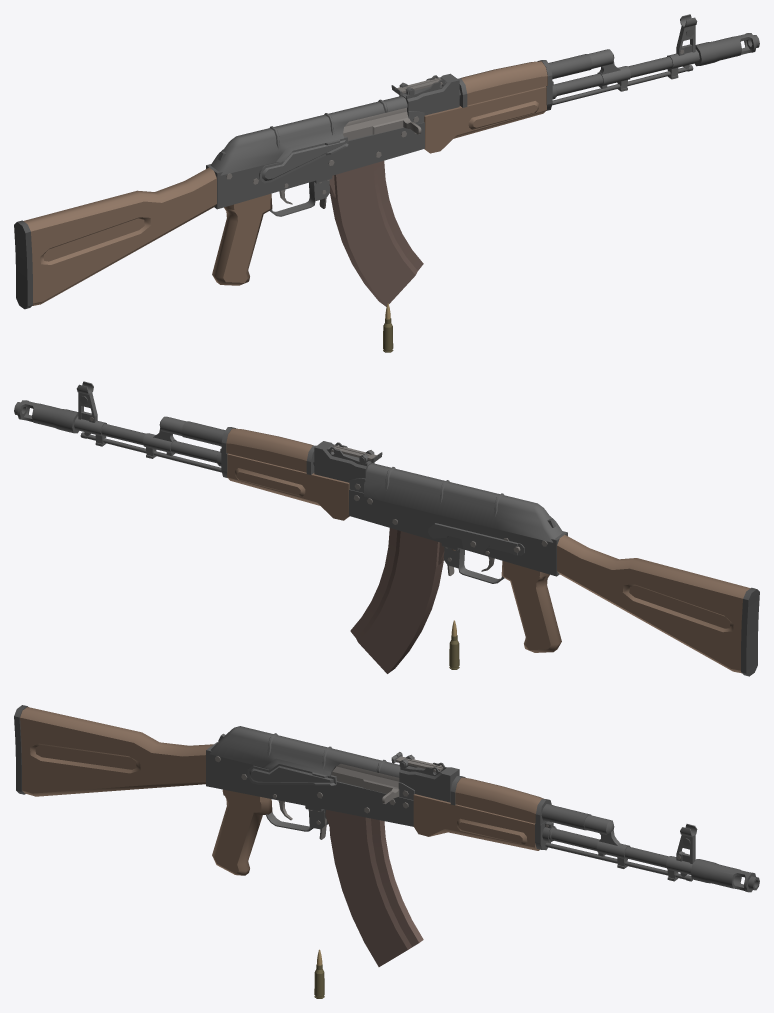
File: assault_rifle.fbx
The picture shows the model from 3 angles, top to bottom: view 1: azimuth 30°, elevation 25°; view 2: azimuth 150°, elevation 25°; view 3: azimuth 330°, elevation 25°; orthographic projection.
Visible parts, largest first — view 1: Body, Mag, Bolt; view 2: Body, Mag; view 3: Body, Mag, Bolt.
Part boxes in pixels (bbox=[...]): Body: bbox=[14, 14, 759, 309]; Mag: bbox=[329, 161, 423, 306]; Bolt: bbox=[343, 107, 421, 140]; Body: bbox=[14, 381, 759, 676]; Mag: bbox=[350, 528, 444, 673]; Body: bbox=[14, 705, 759, 892]; Mag: bbox=[325, 809, 423, 966]; Bolt: bbox=[331, 763, 399, 803].
Bounding box in the file's own units: 1287 × 380 × 134.
